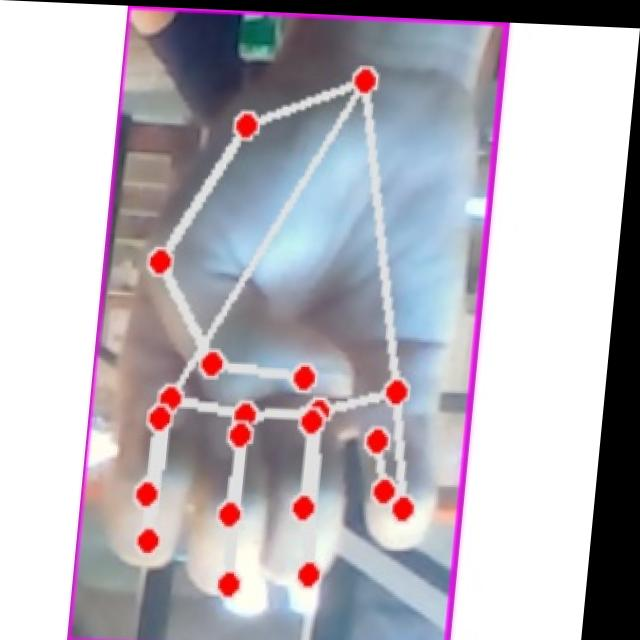E: (92, 55, 485, 606)
